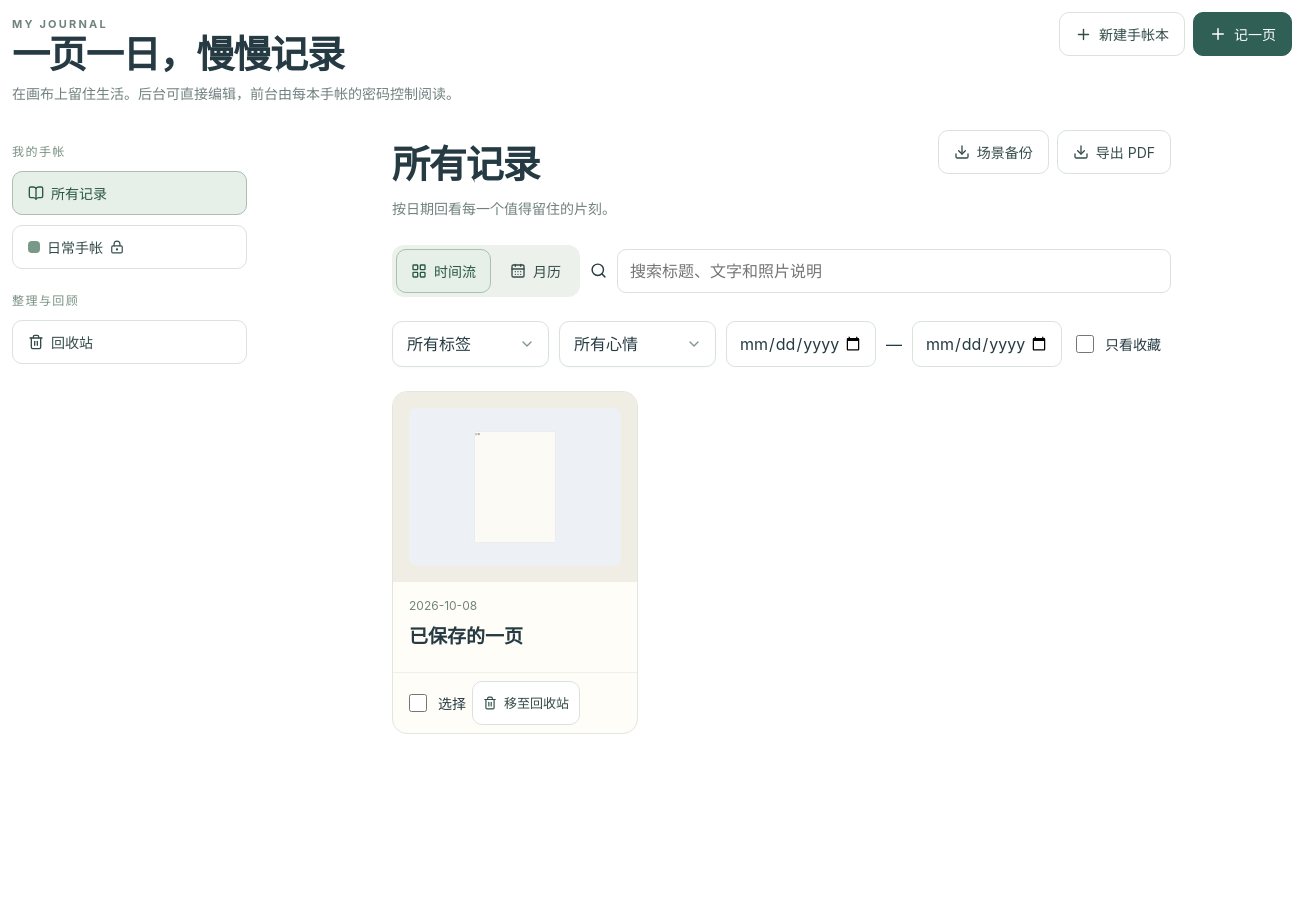
Test: administrator journal sharing › allows sharing only when public=true password=true archived=false
Click the button "日常手帐" at x=130, y=247, box [12,225,247,269]
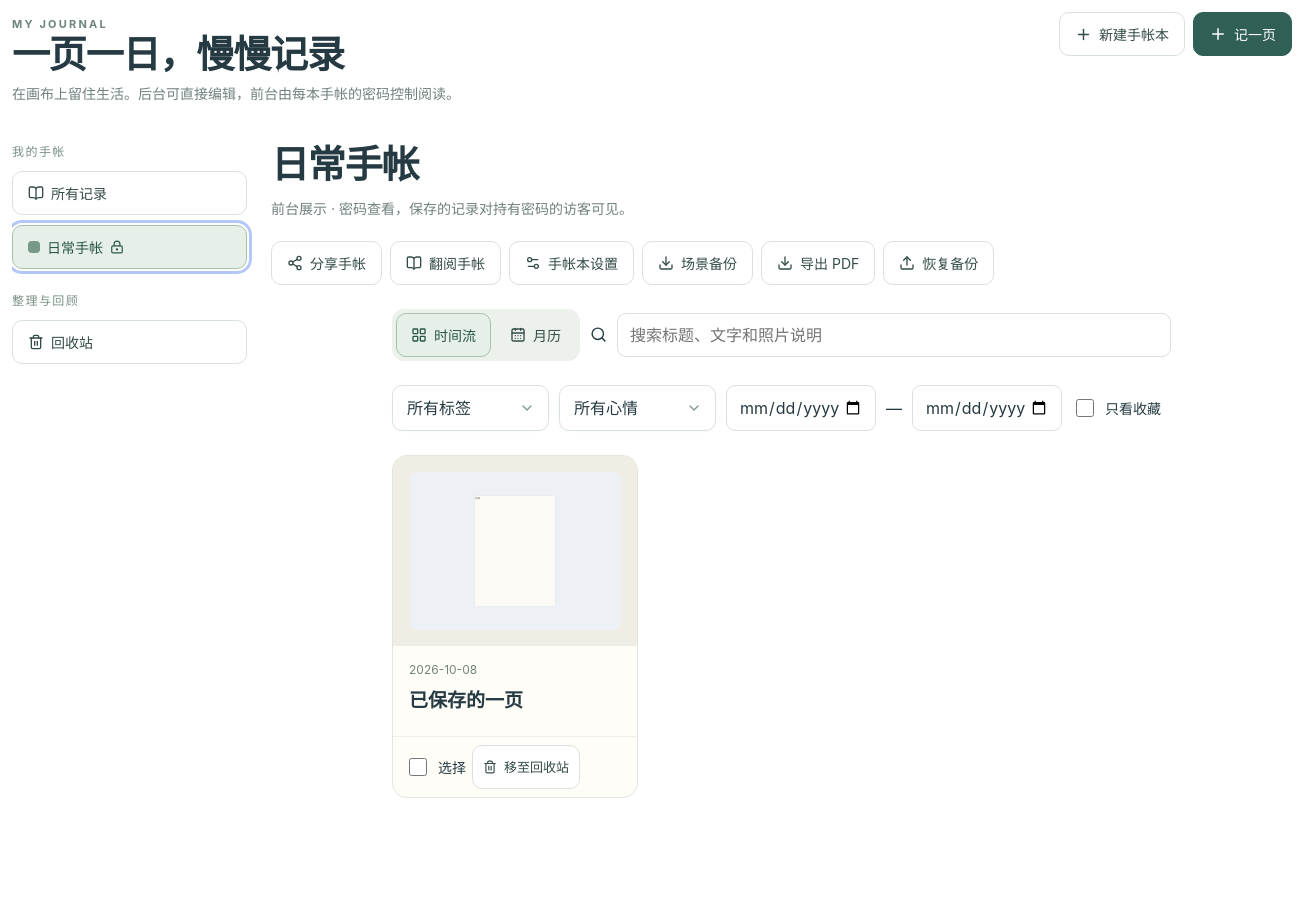
Expected: the button "分享手帐" is enabled, [271,241,382,285]
